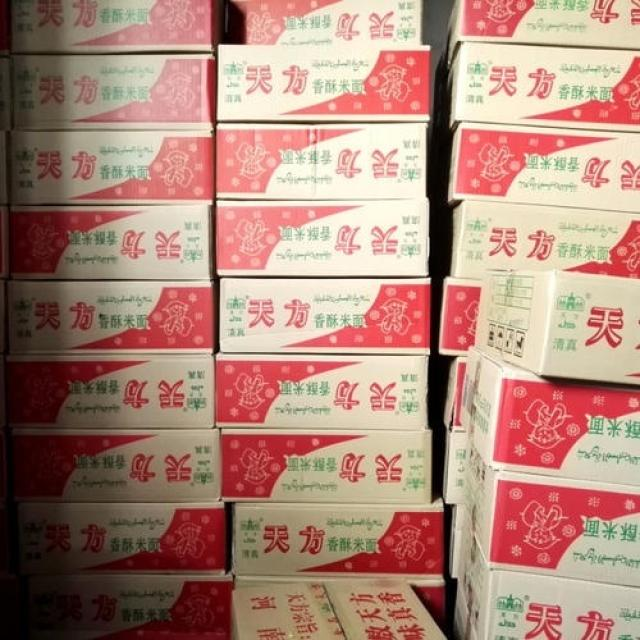box: (461, 437, 638, 589), (458, 345, 639, 488), (457, 517, 638, 639), (233, 490, 446, 579), (475, 272, 639, 387), (441, 43, 639, 137), (441, 119, 639, 212), (217, 199, 430, 277), (217, 46, 432, 123), (219, 279, 430, 356), (216, 125, 428, 201), (220, 430, 434, 505), (215, 356, 428, 430), (16, 501, 227, 575), (10, 205, 212, 282), (445, 201, 639, 281), (9, 129, 213, 205), (6, 354, 215, 428), (7, 280, 215, 354), (440, 1, 639, 78), (9, 430, 221, 502), (10, 55, 216, 129), (235, 575, 446, 638), (23, 577, 234, 639), (9, 0, 227, 53), (219, 1, 423, 46)
